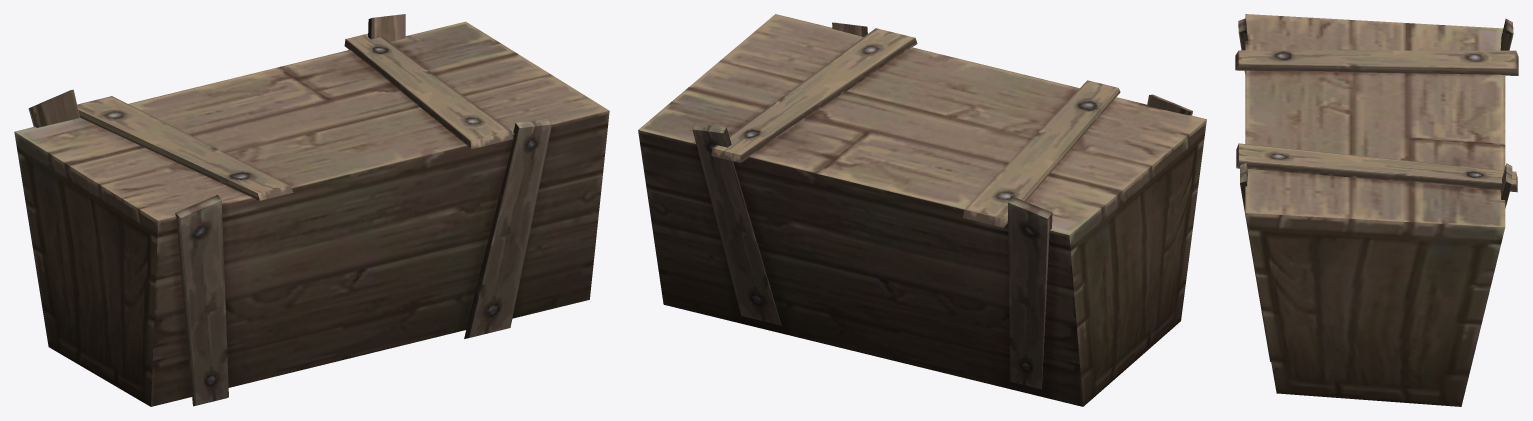
Rendered from fb_lyhg_zj_15_c.FBX.
3 renders of one model, left to right at view 1: azimuth 30°, elevation 25°; view 2: azimuth 150°, elevation 25°; view 3: azimuth 270°, elevation 25°, orthographic. The views are drawn at different scales.
Visible parts, largest first — view 1: fb_lyhg_zj_15_c; view 2: fb_lyhg_zj_15_c; view 3: fb_lyhg_zj_15_c.
Boxes of the visible parts, bbox=[...] form: fb_lyhg_zj_15_c: bbox=[14, 14, 609, 406]; fb_lyhg_zj_15_c: bbox=[638, 14, 1206, 406]; fb_lyhg_zj_15_c: bbox=[1235, 14, 1518, 406].
Bounding box in the file's own units: 69.82 × 33.56 × 42.06.
